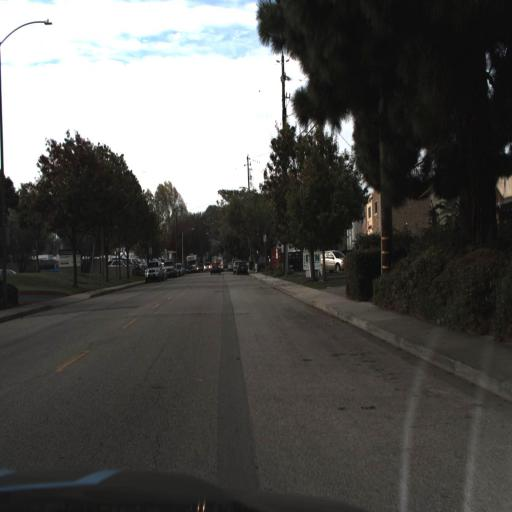car: (315, 241, 348, 282), (143, 256, 164, 285), (103, 254, 132, 274), (233, 255, 249, 279), (207, 255, 223, 277)
